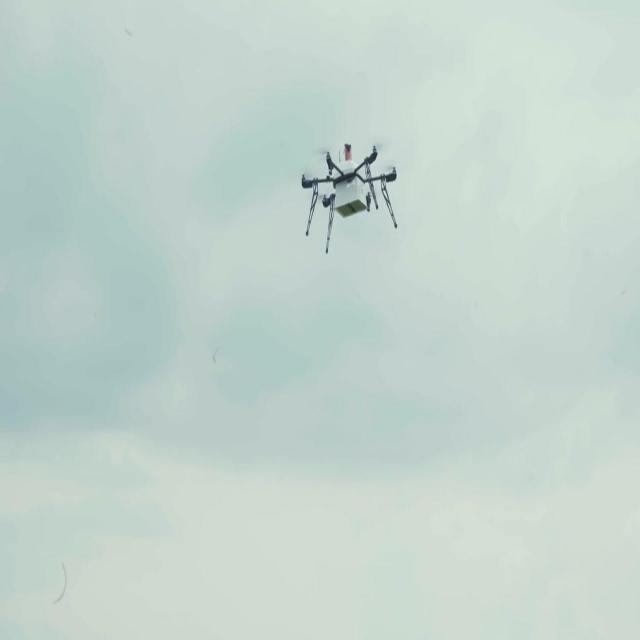UAV: (301, 143, 397, 254)
